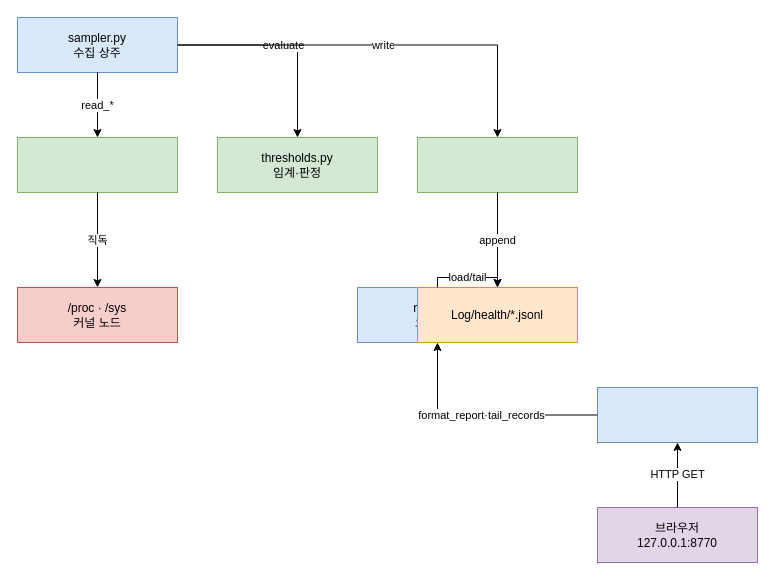
The diagram is 775 pixels wide and 580 high, and some of its shapes have lost their labels. The box of each missing label's shape, as (x1, y1, x2, y2) in pixels:
ringlog.py JSONL 링버퍼: (416, 136, 578, 192)
sysfs.py sysfs/procfs 직독: (16, 136, 178, 192)
webview.py 대시보드 HTTP: (596, 386, 758, 442)
